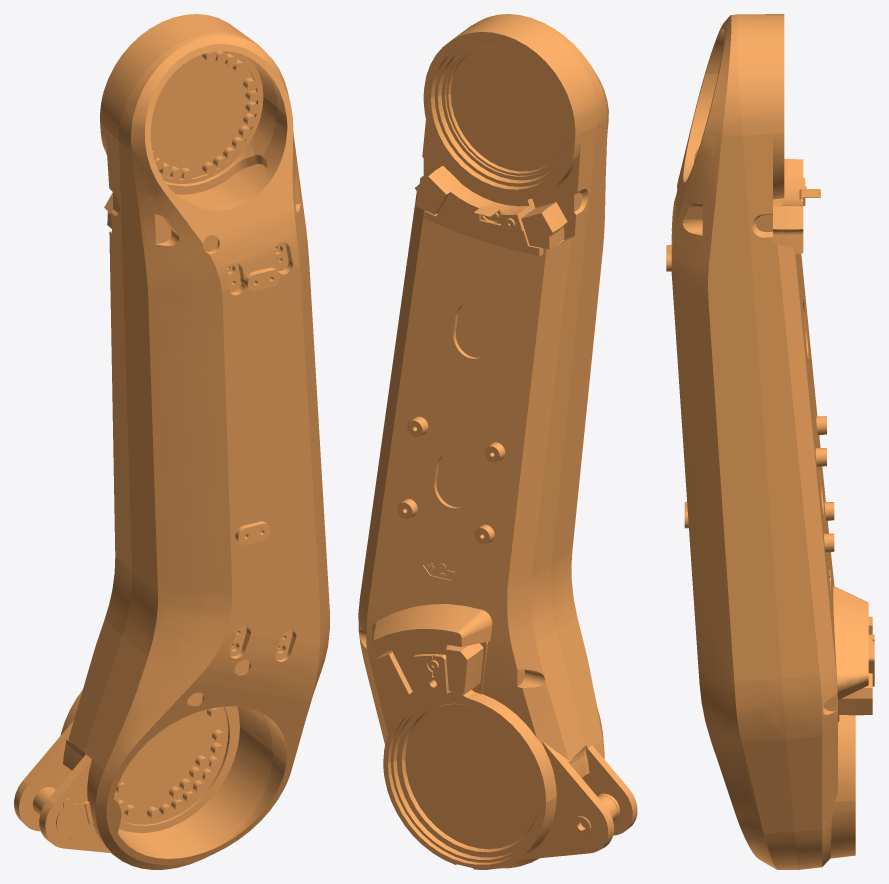
3 renders of one model, left to right at view 1: azimuth 30°, elevation 25°; view 2: azimuth 150°, elevation 25°; view 3: azimuth 270°, elevation 25°, orthographic. The views are drawn at different scales.
Parts seen in each view (by area): view 1: mesh_0; view 2: mesh_0; view 3: mesh_0.
Boxes of the visible parts, x1,y1,x2,y2 form: mesh_0: (14, 14, 329, 869); mesh_0: (358, 14, 637, 869); mesh_0: (666, 14, 874, 869).
Bounding box in the file's own units: 0.5006 × 1.52 × 0.342.
